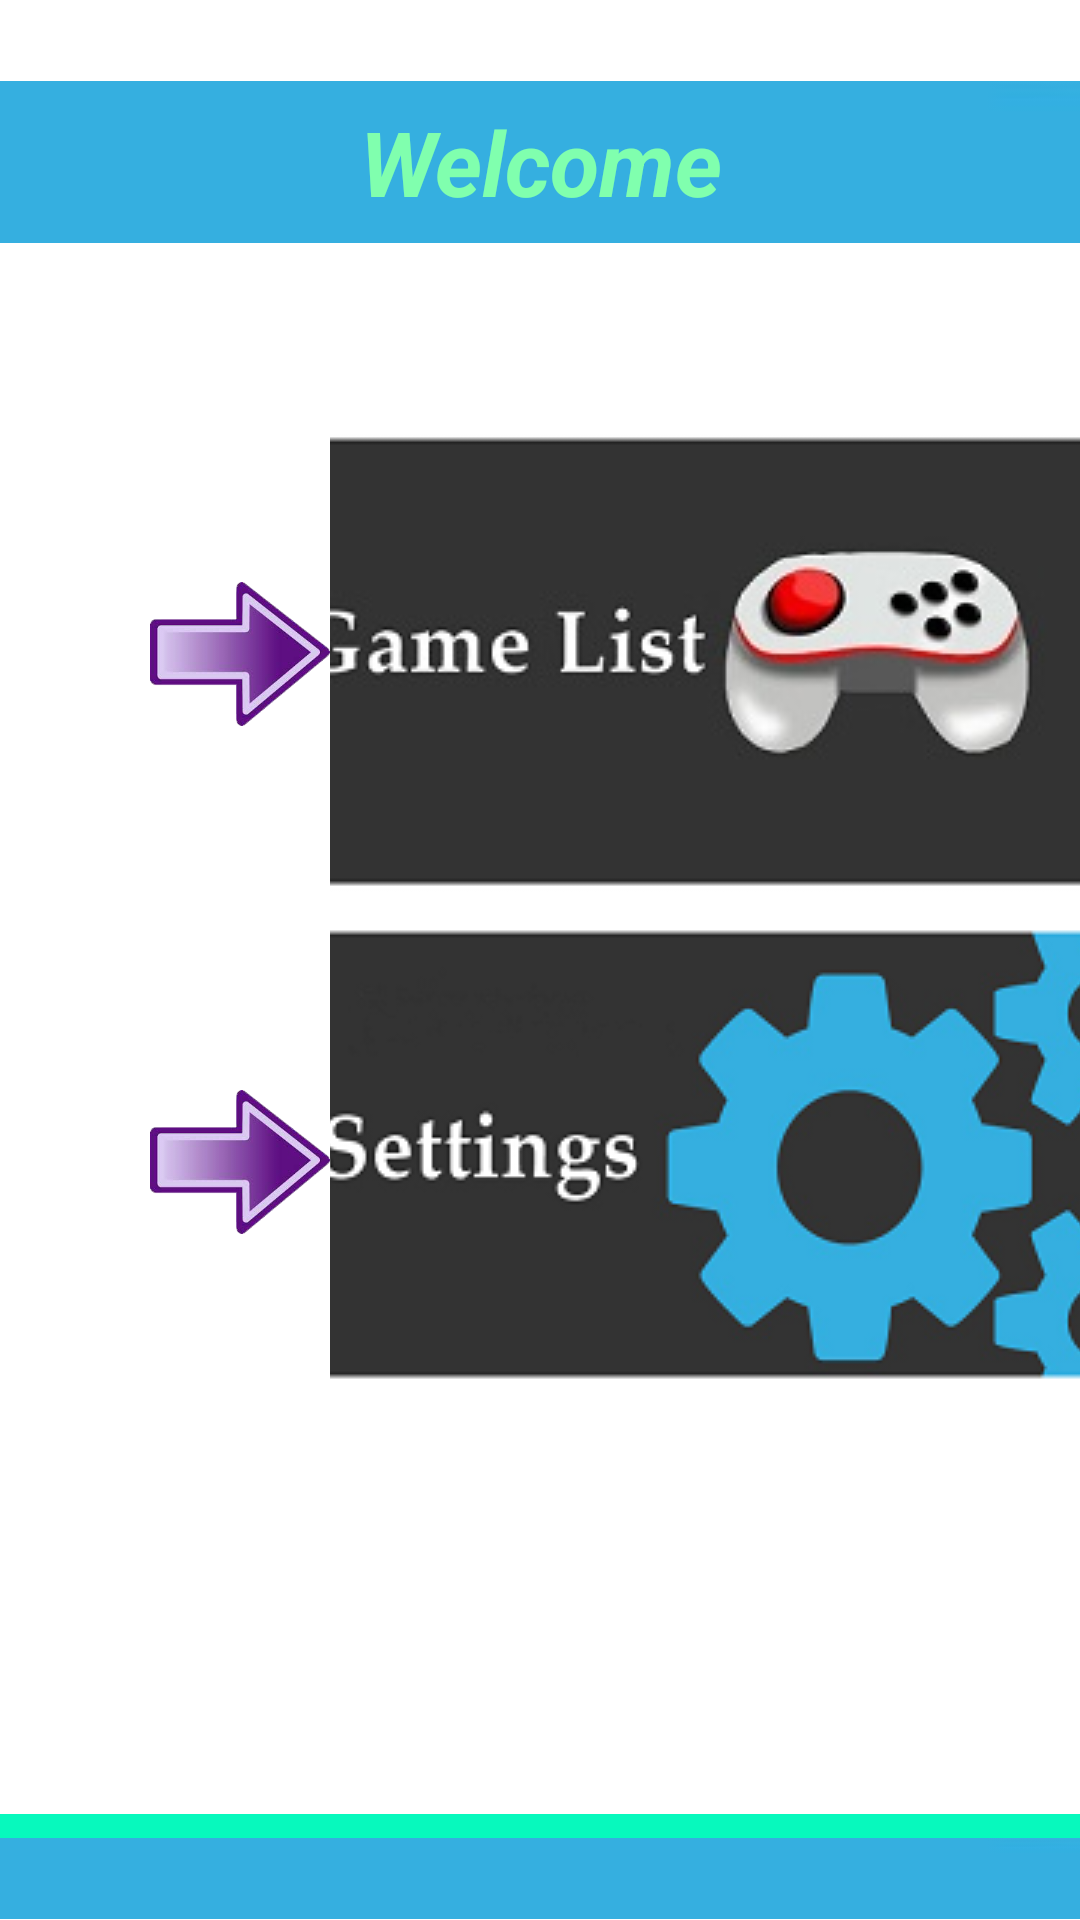

Screen size 1080*1920. Icon name, then its center in pixels as (x=x, y=y):
arrow: (x=240, y=654), (x=240, y=1162)
